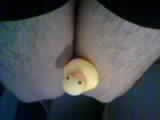duck: (48, 50, 100, 94)
